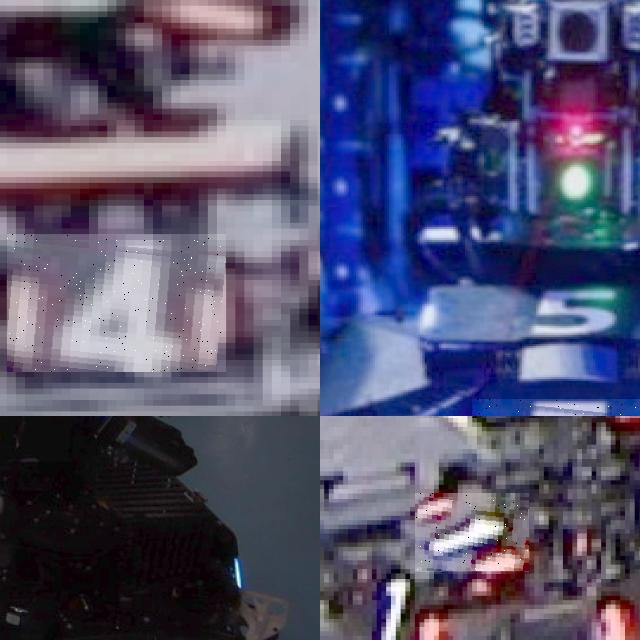R1: (415, 494, 529, 574), (601, 569, 640, 640)
R4: (7, 234, 226, 372)
